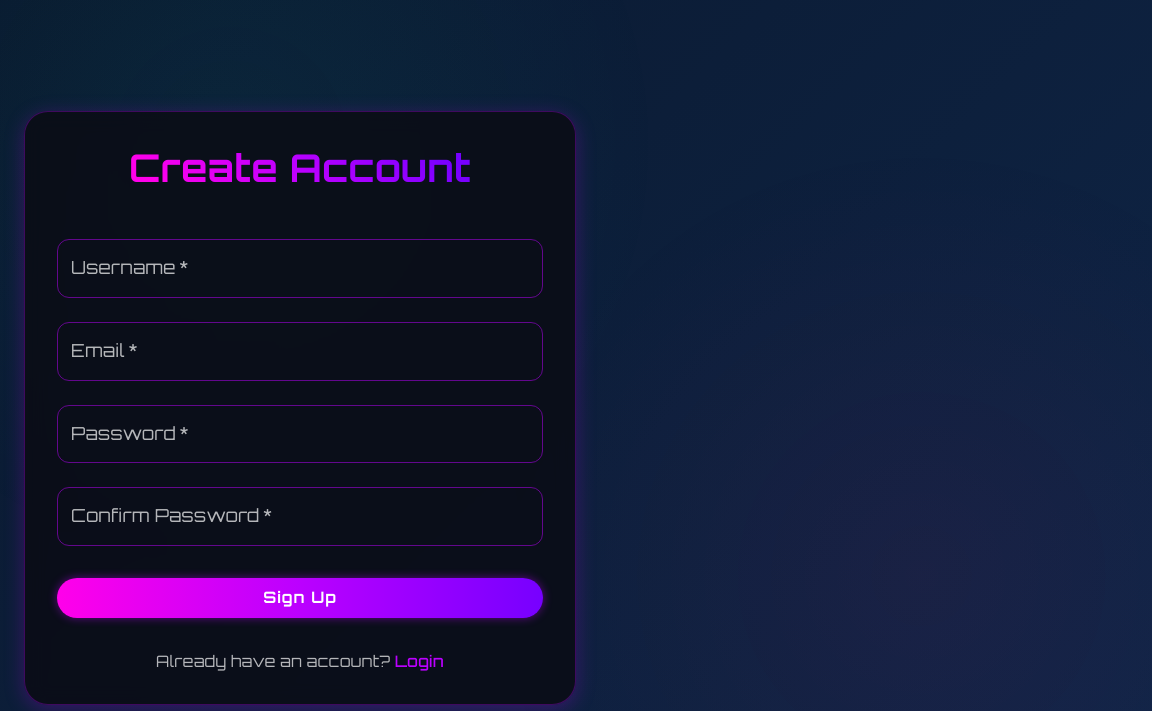
Test case: Register Component › handles successful registration
This screenshot has width=1152, height=711.
Type "newuser" into the field labelled "Username *" at x=300, y=268, box [57, 239, 543, 298]
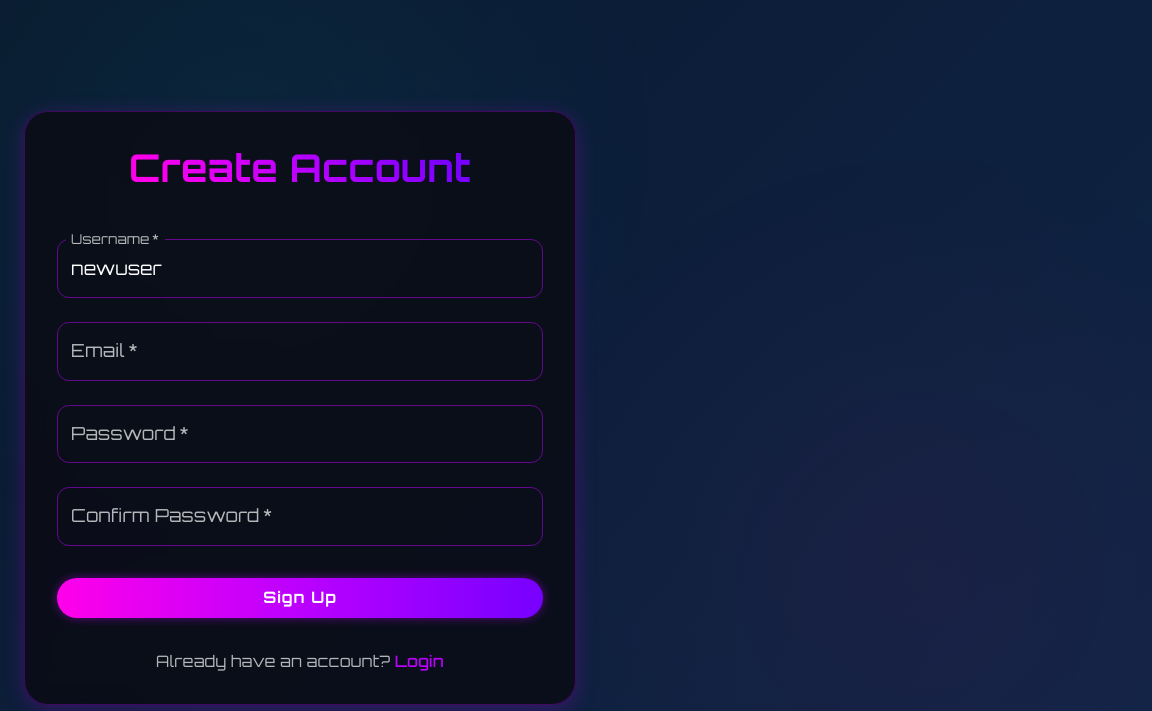
Type "test@example.com" into the field labelled "Email *" at x=300, y=351, box [57, 322, 543, 381]
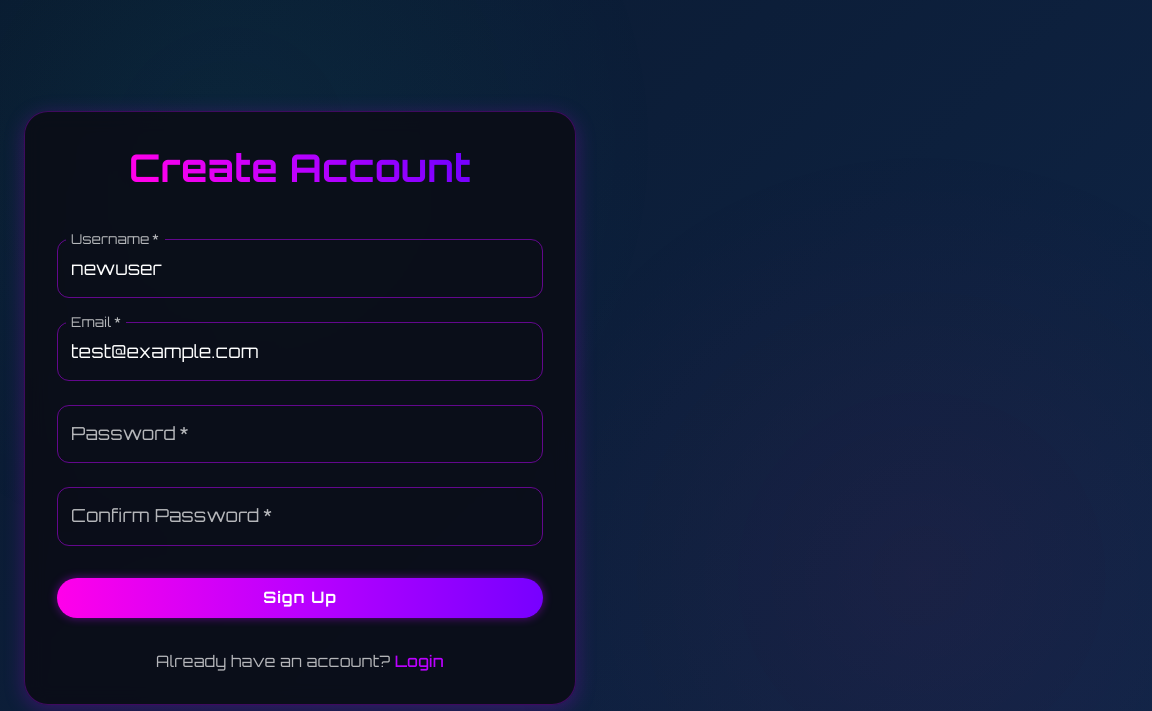
Type "password123" into the password field labelled "Password *" at x=300, y=434, box [57, 405, 543, 464]
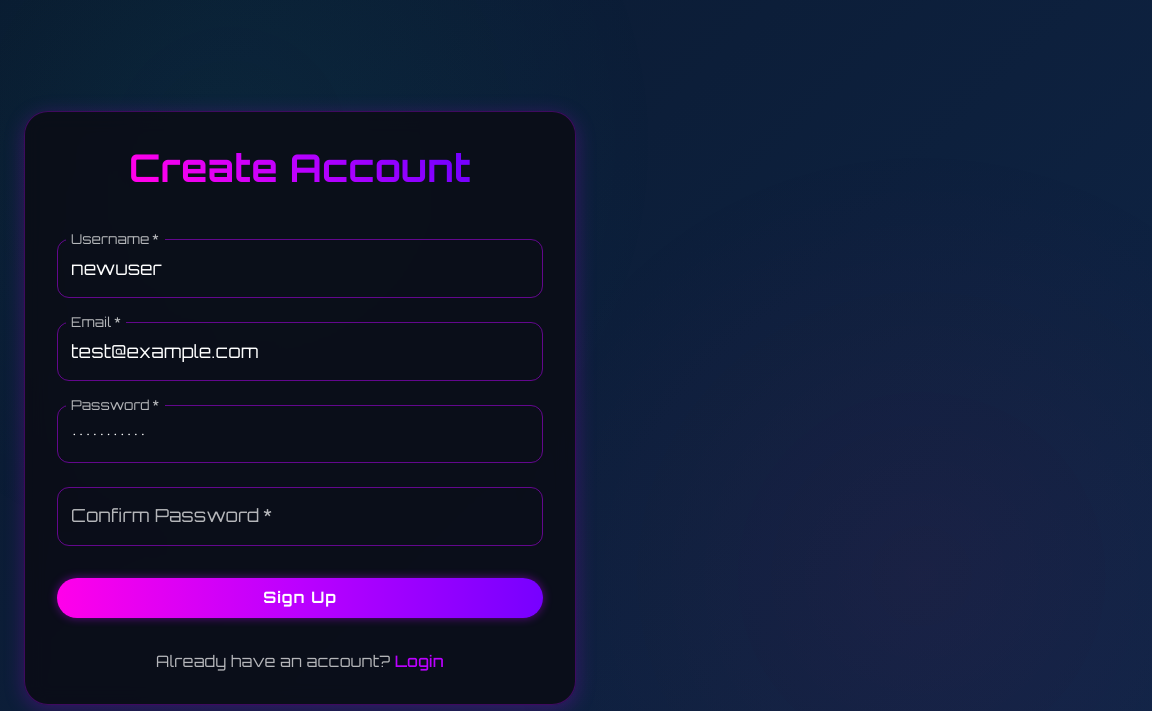
Type "password123" into the password field labelled "Confirm Password *" at x=300, y=517, box [57, 488, 543, 546]
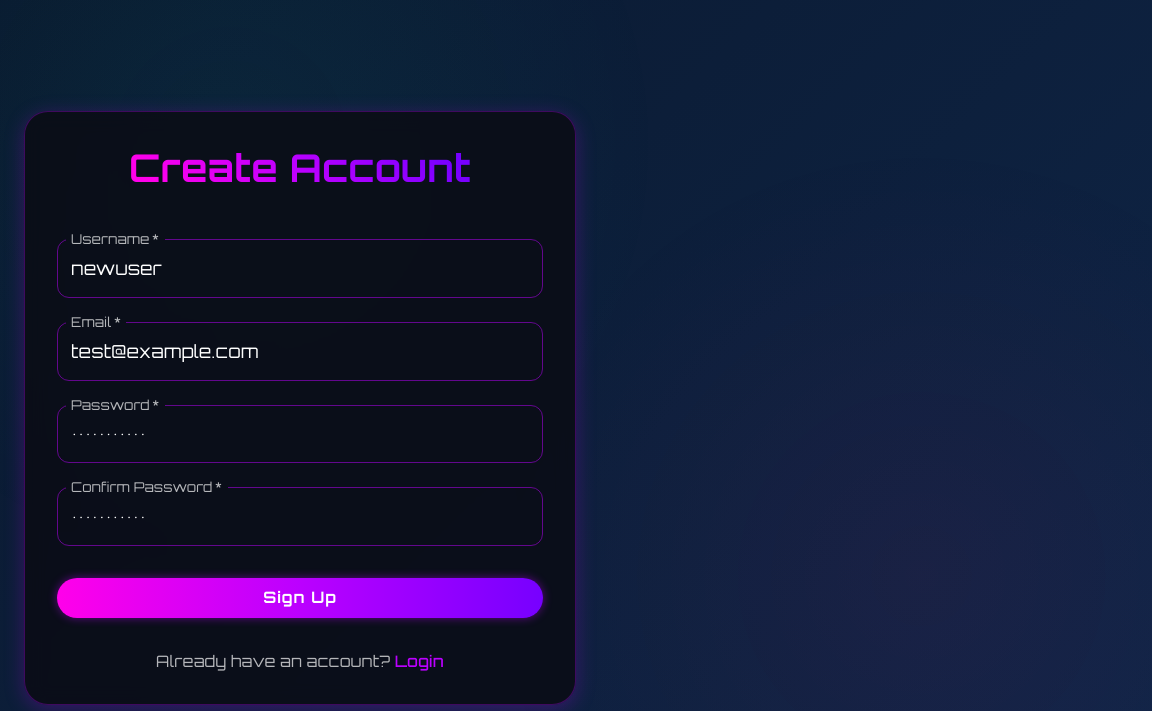
Click the button "Sign Up" at x=300, y=598, box [57, 578, 543, 618]
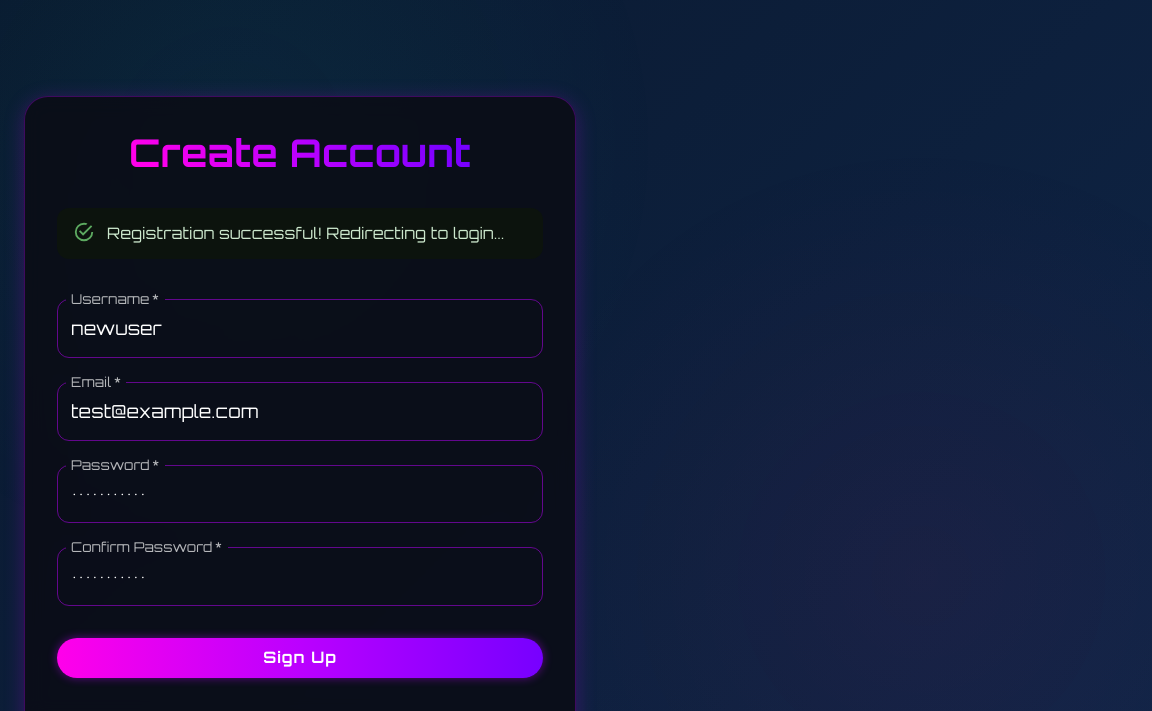
Expected: the text "Registration successful! Redirecting to login..." is shown, [107, 223, 505, 243]
